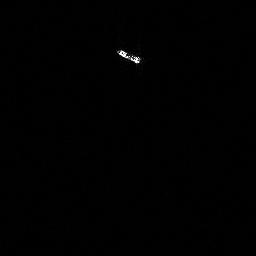ship: (112, 46, 144, 67)
